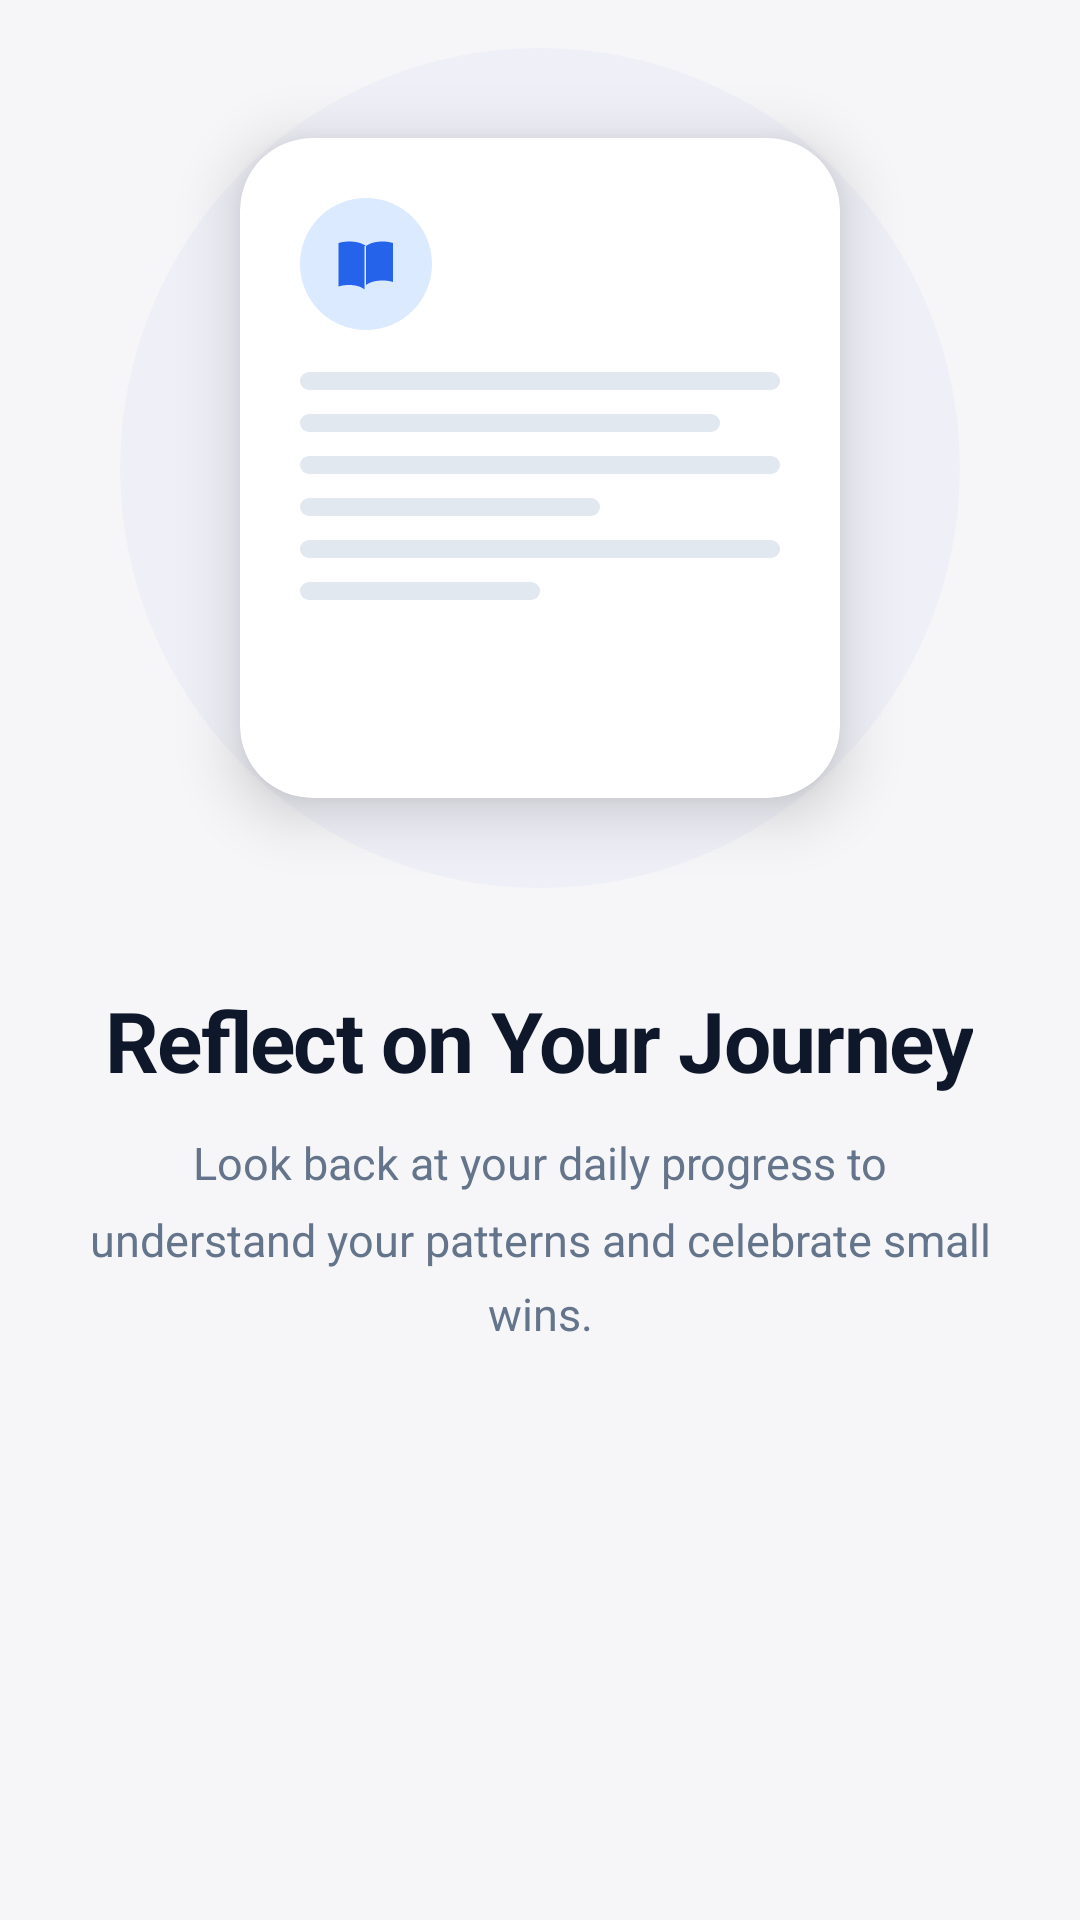

Where to tap for icons on this 1080x1920 app screen, as (x=x, y=y):
Journal: (x=365, y=265)
